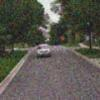cars: (36, 44, 50, 57)
